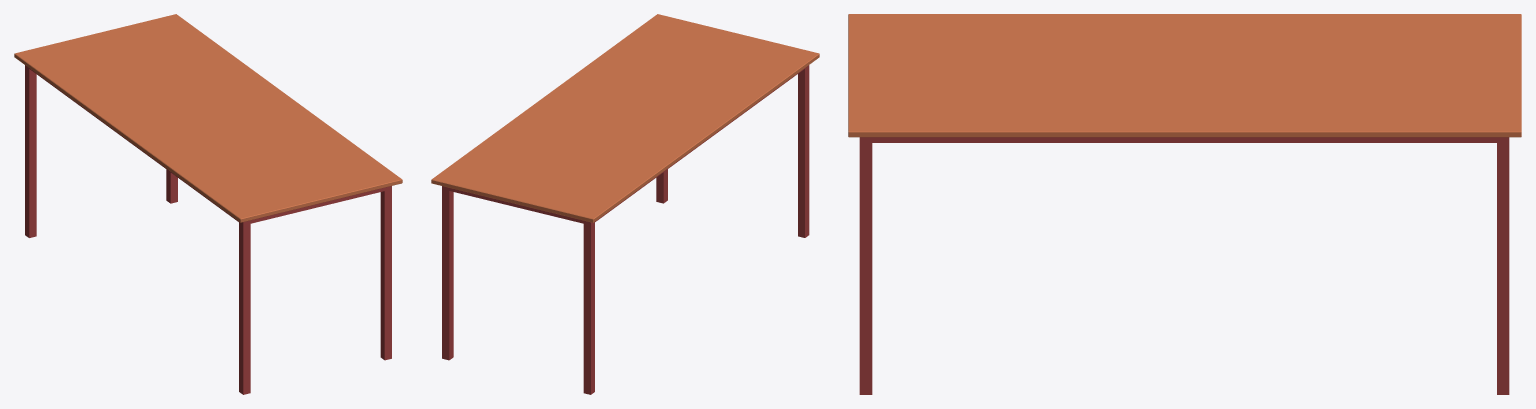
The model's file is officeTable.fbx.
The picture shows the model from 3 angles, left to right: view 1: azimuth 30°, elevation 25°; view 2: azimuth 150°, elevation 25°; view 3: azimuth 270°, elevation 25°; orthographic projection. The views are drawn at different scales.
Visible parts, largest first — view 1: officeTable; view 2: officeTable; view 3: officeTable.
Boxes of the visible parts, bbox=[...] form: officeTable: bbox=[14, 14, 402, 394]; officeTable: bbox=[431, 14, 819, 394]; officeTable: bbox=[848, 14, 1521, 394].
Bounding box in the file's own units: 0.7221 × 0.7664 × 1.74.
